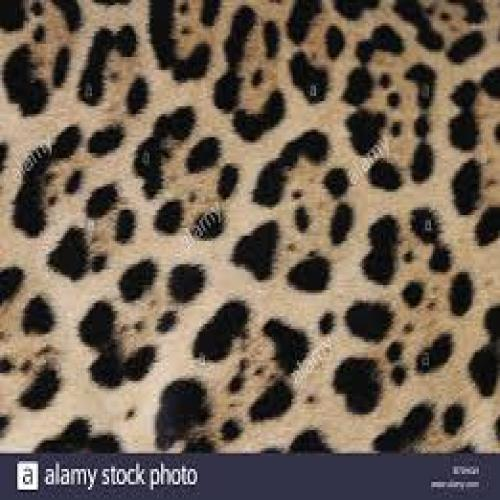jaguar_not-endangered: (0, 0, 494, 446)
